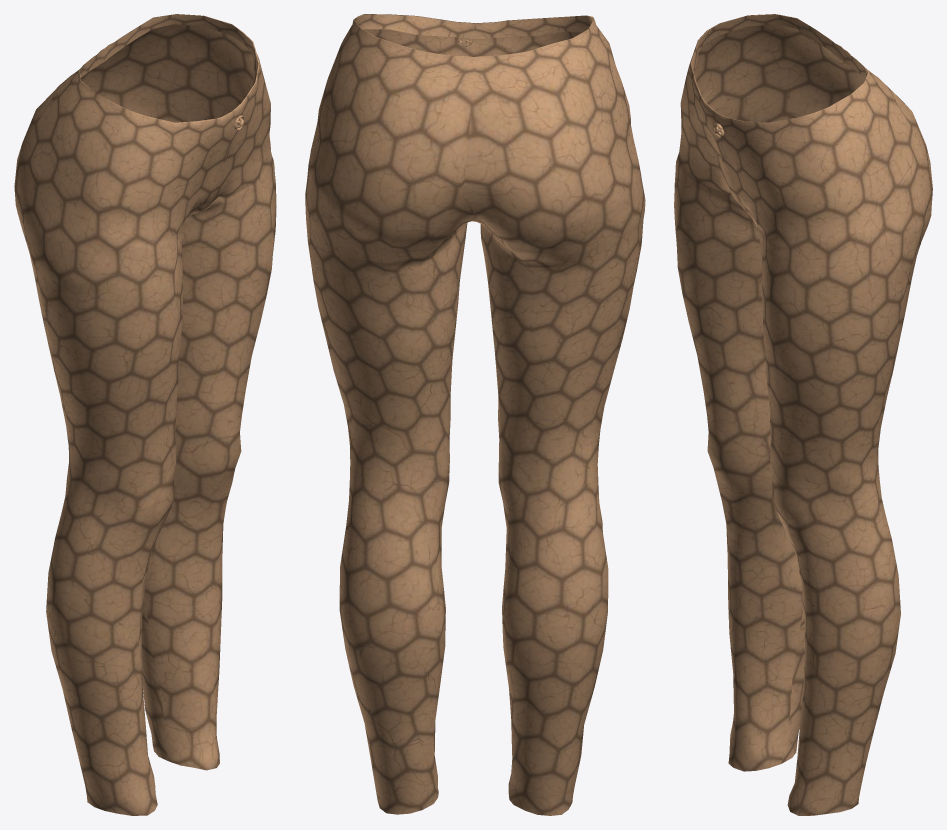
File: scaly_pants.gltf
3 renders of one model, left to right at view 1: azimuth 30°, elevation 25°; view 2: azimuth 150°, elevation 25°; view 3: azimuth 270°, elevation 25°, orthographic. The views are drawn at different scales.
Visible parts, largest first — view 1: Rocker_Jeans; view 2: Rocker_Jeans; view 3: Rocker_Jeans.
Part boxes in pixels (bbox=[...]): Rocker_Jeans: bbox=[14, 14, 276, 815]; Rocker_Jeans: bbox=[305, 14, 645, 815]; Rocker_Jeans: bbox=[674, 14, 932, 815].
Size of the model in its own units: 0.3709 by 0.9991 by 0.3218.
1 material, 1 textured.
